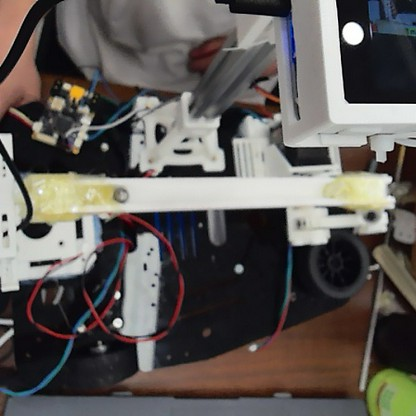ironball: (109, 183, 132, 205)
